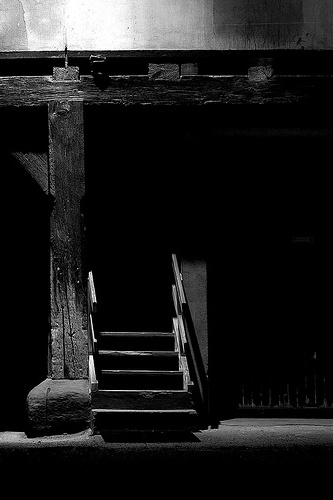stairs_up: (99, 313, 192, 436)
